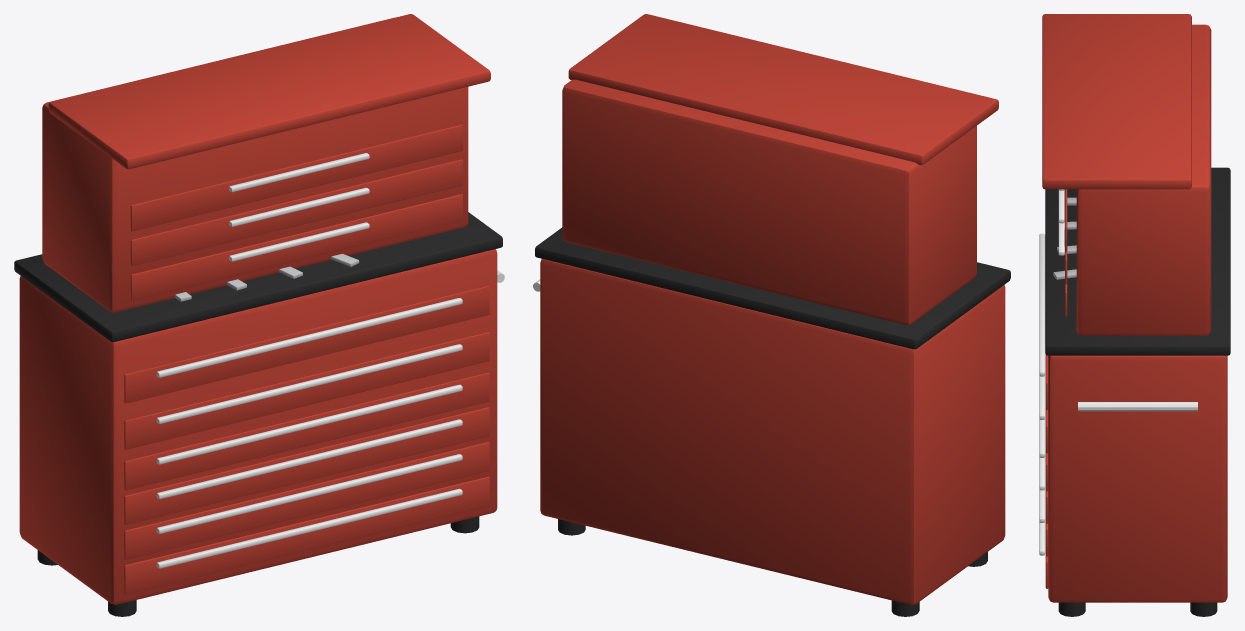
The model's file is g_toolchest.fbx.
The picture shows the model from 3 angles, left to right: view 1: azimuth 30°, elevation 25°; view 2: azimuth 150°, elevation 25°; view 3: azimuth 270°, elevation 25°; orthographic projection. The views are drawn at different scales.
Visible parts, largest first — view 1: g_toolchest_red, g_toolchest_chrome, g_toolchest_black, g_toolchest_rubber, g_toolchest_steel; view 2: g_toolchest_red, g_toolchest_black, g_toolchest_rubber; view 3: g_toolchest_red, g_toolchest_black, g_toolchest_chrome, g_toolchest_rubber, g_toolchest_steel.
Boxes of the visible parts, x1,y1,x2,y2 form: g_toolchest_red: (19,14,497,604); g_toolchest_chrome: (156,153,504,568); g_toolchest_black: (14,212,502,342); g_toolchest_rubber: (37,516,479,616); g_toolchest_steel: (174,253,359,301); g_toolchest_red: (540,14,1005,604); g_toolchest_black: (535,227,1010,349); g_toolchest_rubber: (558,519,987,616); g_toolchest_red: (1042,14,1227,602); g_toolchest_black: (1045,167,1230,355); g_toolchest_chrome: (1039,189,1197,555); g_toolchest_rubber: (1058,602,1217,616); g_toolchest_steel: (1053,197,1076,279).
Bounding box in the file's own units: 1.49 × 1.61 × 0.64.
